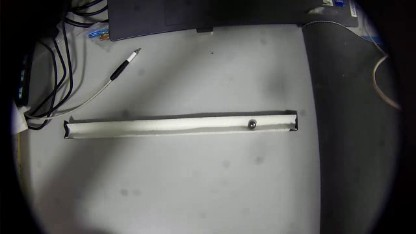gangzhu: (246, 118, 258, 130)
